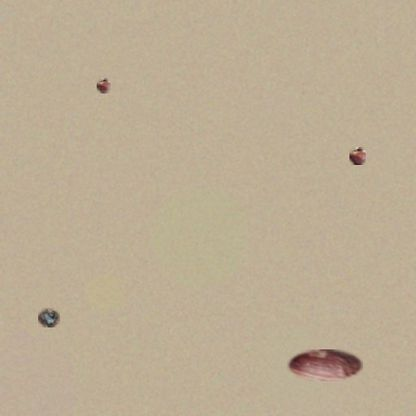rotten: (287, 349, 363, 381), (38, 308, 60, 327)
sprouted: (349, 147, 366, 165), (97, 78, 110, 93)
